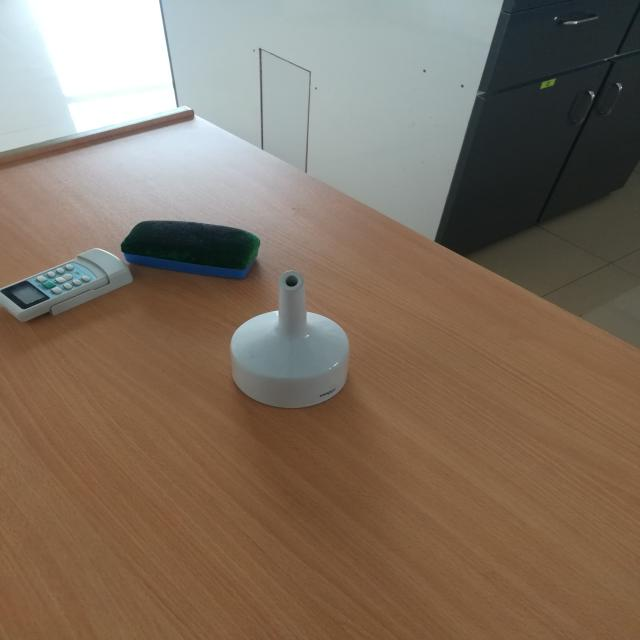Buchner_Funnel: (214, 249, 366, 444)
